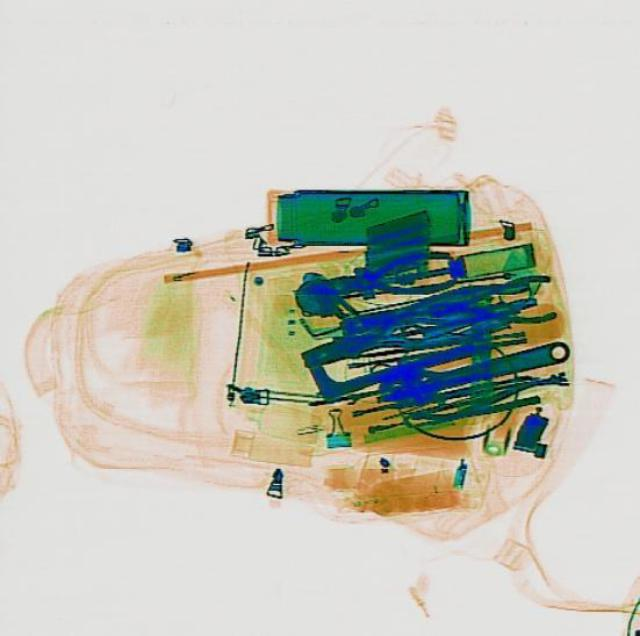Pliers: (295, 243, 455, 310), (421, 271, 555, 333)
Wrench: (370, 329, 572, 412)
